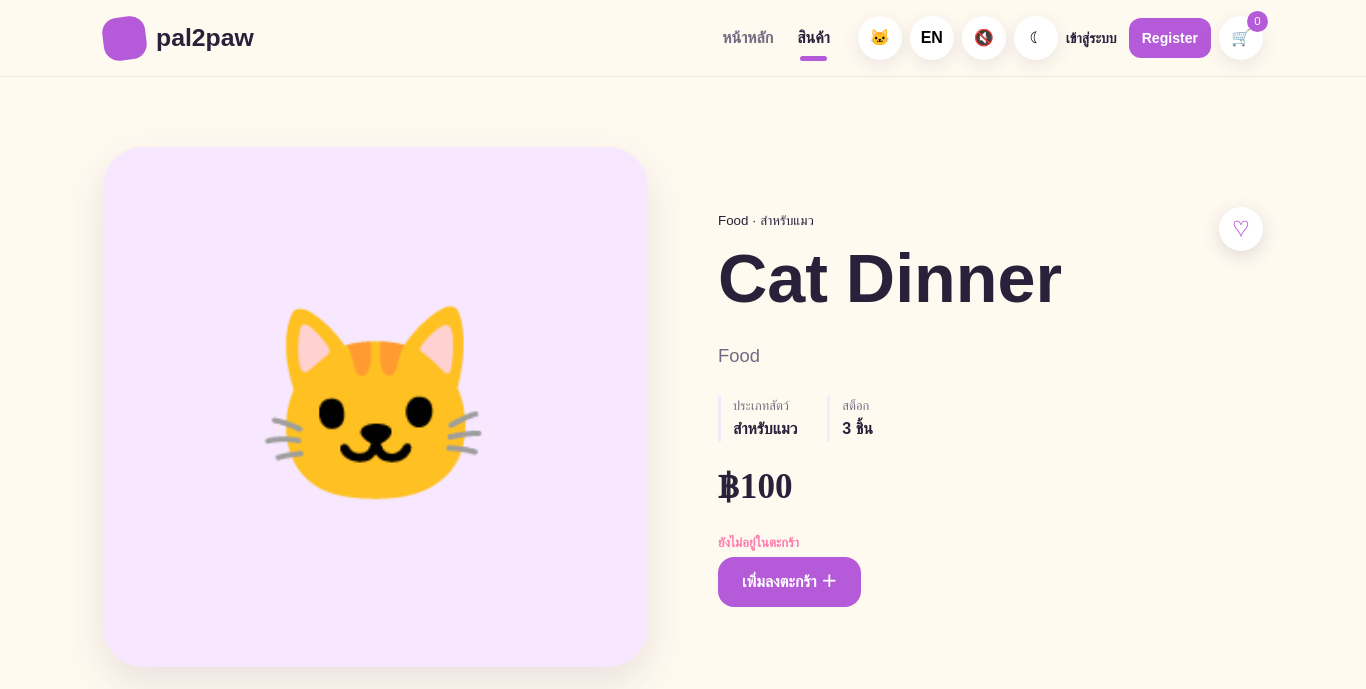
Test: adds to cart from Product Detail with the shared cart state
The width and height of the screenshot is (1366, 689).
Click the button "เพิ่มลงตะกร้า ＋". click: (790, 582)
box: [718,557,861,607]
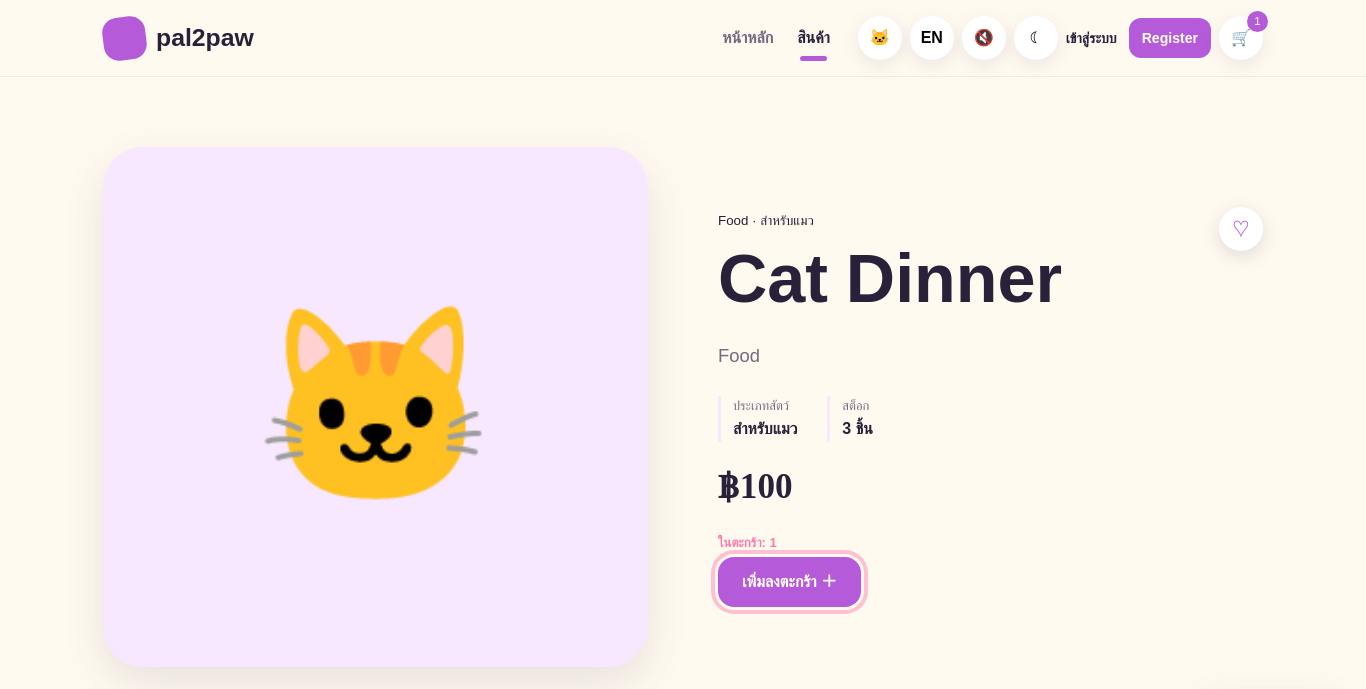
Expected: the text "ในตะกร้า: 1" is shown, [718,535,777,550]
